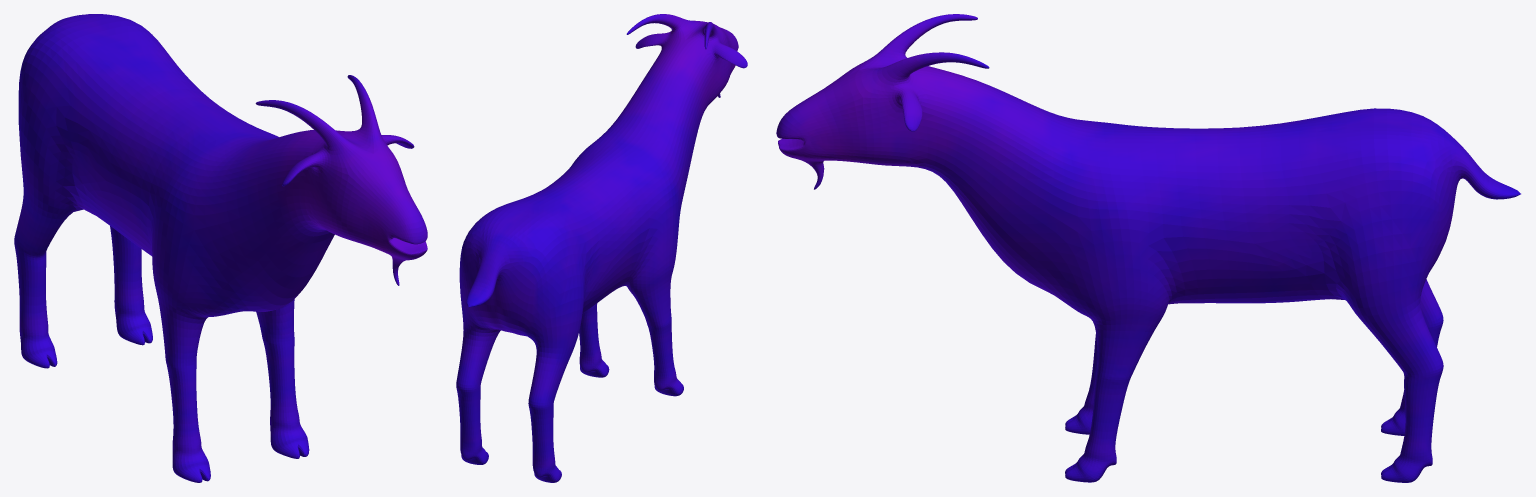
The model's file is pred.glb.
3 views of the same model, side by side, from view 1: azimuth 30°, elevation 25°; view 2: azimuth 150°, elevation 25°; view 3: azimuth 270°, elevation 25° (orthographic). The views are drawn at different scales.
Size of the model in its own units: 0.2143 by 0.5609 by 0.8904.
